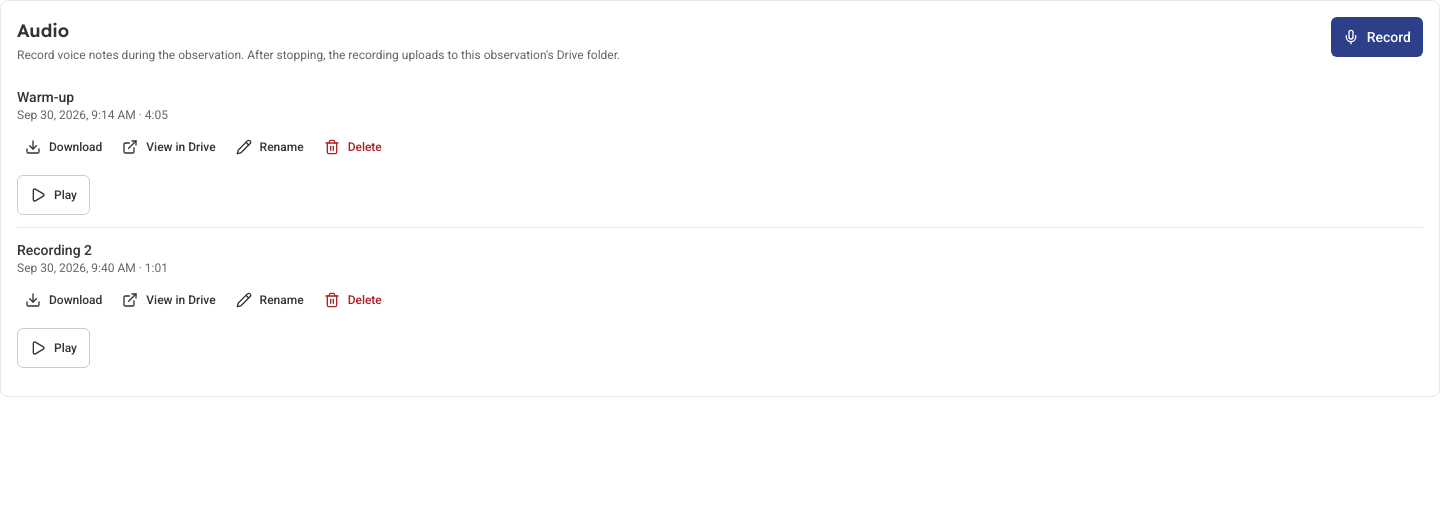
Test: <AudioRecorder> recording › keeps a recording whose upload failed, and retries it on request
Click the button "Record" at x=1377, y=37, box x1=1331 y1=17 x2=1423 y2=57
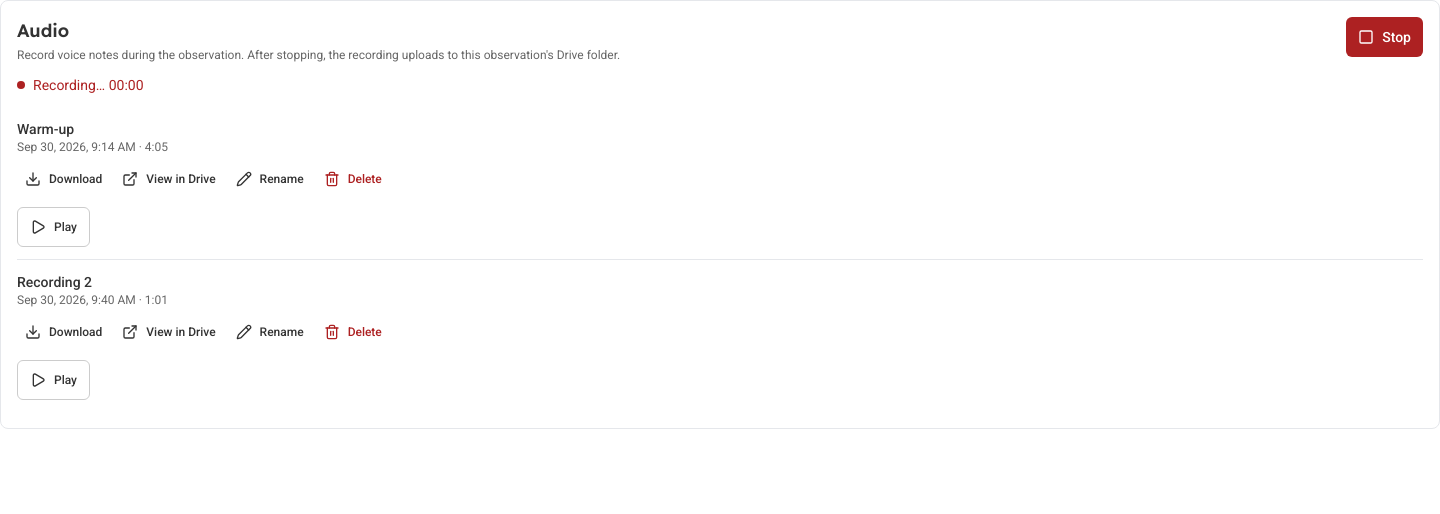
Click the button "Stop" at x=1385, y=37, box x1=1346 y1=17 x2=1423 y2=57
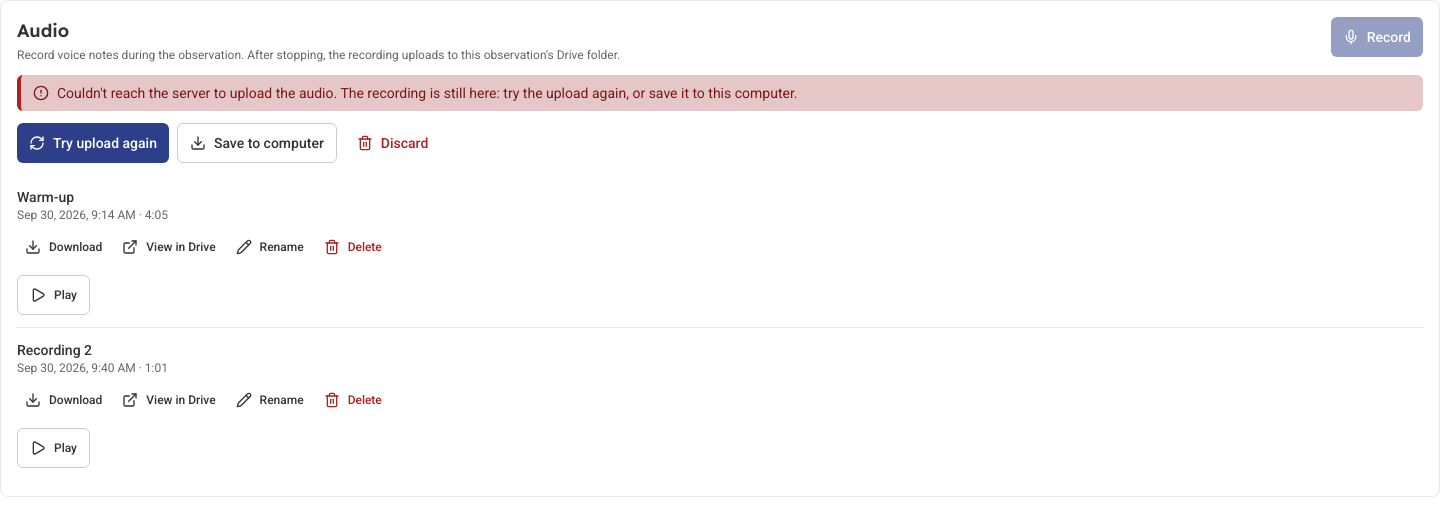
expect the text "The recording is still here" is shown: met, box x1=57 y1=85 x2=798 y2=101
expect the button "Record" is disabled: met, box x1=1331 y1=17 x2=1423 y2=57
expect the button "Save to computer" is shown: met, box x1=177 y1=123 x2=337 y2=163
Click the button "Try upload again" at x=93, y=143, box x1=17 y1=123 x2=169 y2=163
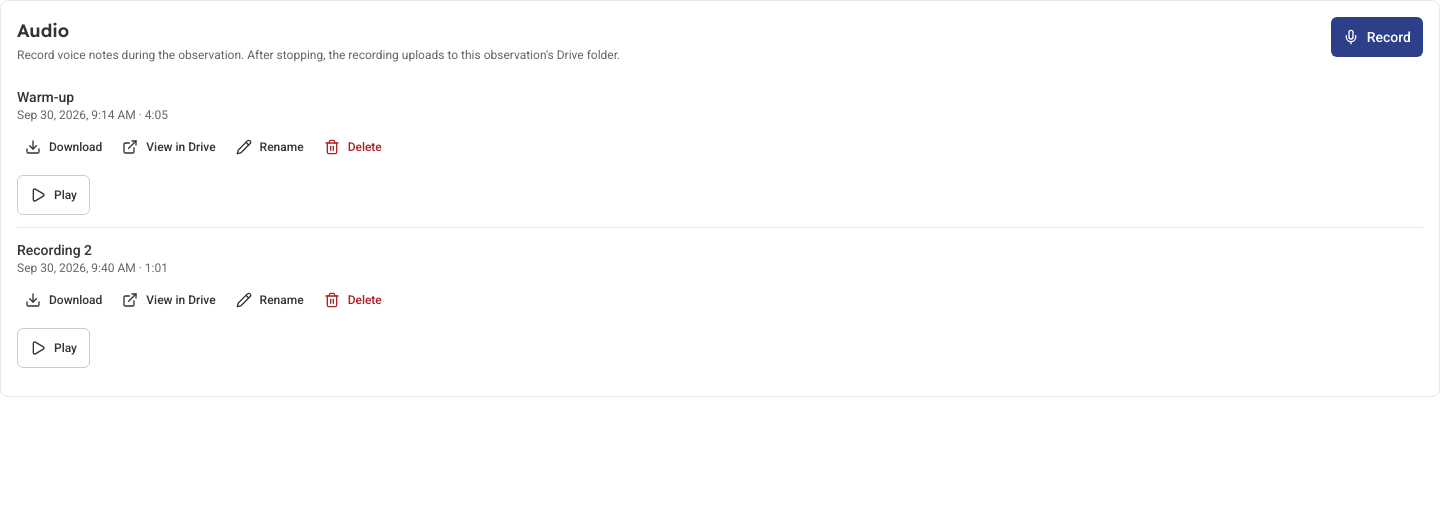
expect the button "Try upload again" is gone: met
expect the button "Record" is enabled: met, box x1=1331 y1=17 x2=1423 y2=57
